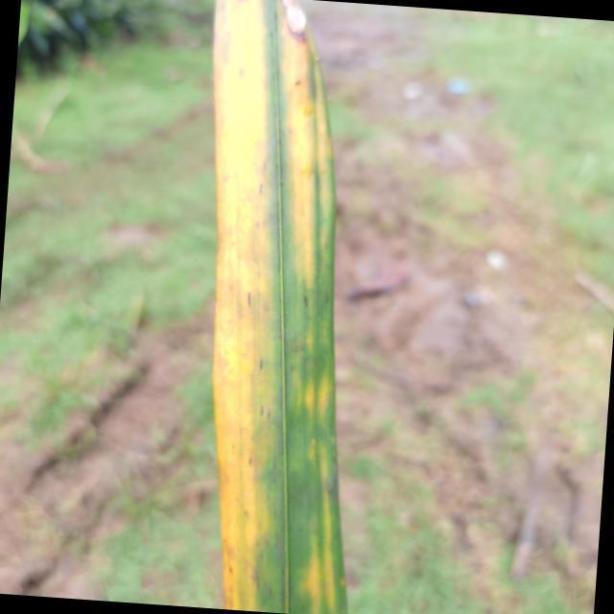Megnesium: (211, 0, 360, 614)
